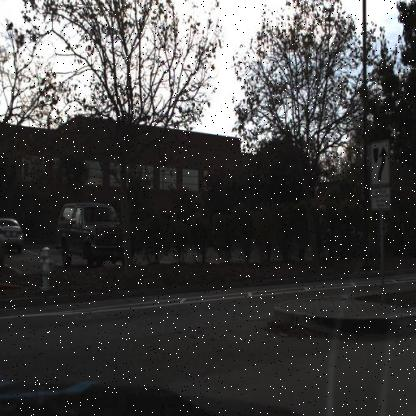car: (0, 218, 25, 256)
truck: (57, 202, 127, 267)
